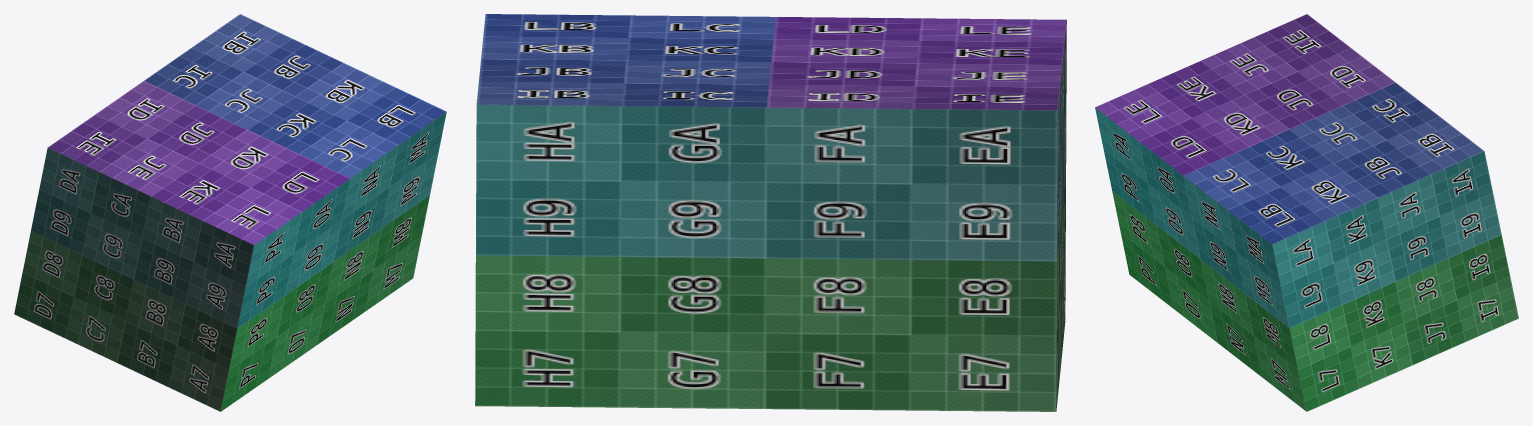
File: SM_boat.fbx
3 views of the same model, side by side, from view 1: azimuth 30°, elevation 25°; view 2: azimuth 150°, elevation 25°; view 3: azimuth 270°, elevation 25° (orthographic). The views are drawn at different scales.
Parts seen in each view (by area): view 1: SM_boat; view 2: SM_boat; view 3: SM_boat.
Boxes of the visible parts, box(x1,y1,x2,y2) form: SM_boat: box(14, 14, 446, 411); SM_boat: box(475, 14, 1066, 411); SM_boat: box(1095, 14, 1518, 411).
Bounding box in the file's own units: 3.72 × 3.44 × 1.97.
Materials: 1 (1 with a texture image).
